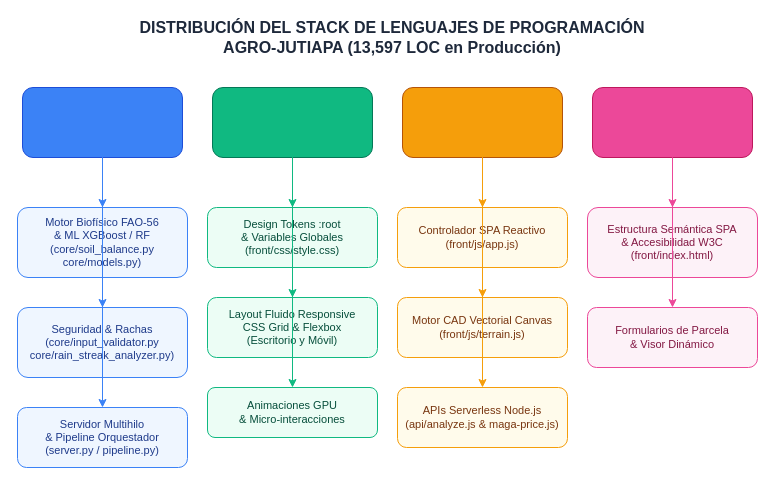
The diagram is 775 pixels wide and 485 high, and some of its shapes have lost their labels. The shapes that lost their labels are listed below. From the top down, each one's box as (x1, y1, x2, y2) in pixels, then its label:
(22, 86, 182, 158): Python 3.10+ 4,879 LOC (35.9%) 16 Archivos Fuente
(212, 86, 372, 158): CSS3 Moderno 3,930 LOC (28.9%) 1 Archivo Fuente
(402, 86, 562, 158): JavaScript ES6+ 3,635 LOC (26.7%) 6 Archivos Fuente
(592, 86, 752, 158): HTML5 Semántico 1,153 LOC (8.5%) 1 Archivo Fuente
